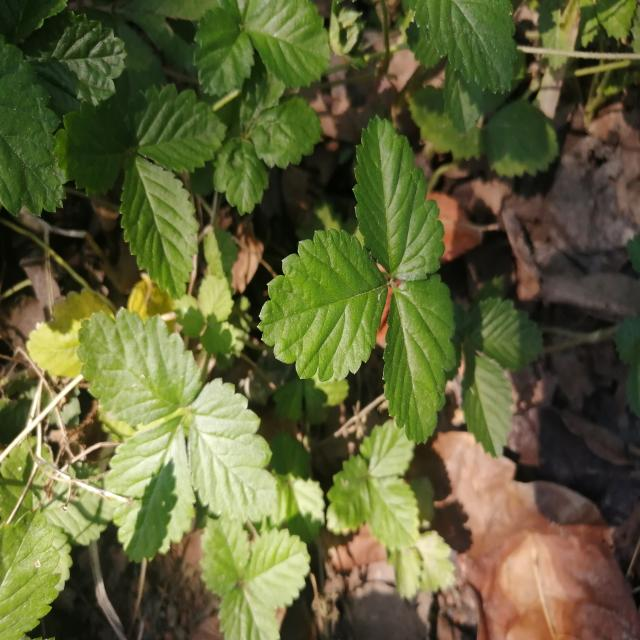Mock_strawberry: (267, 118, 466, 424), (63, 298, 293, 537)
